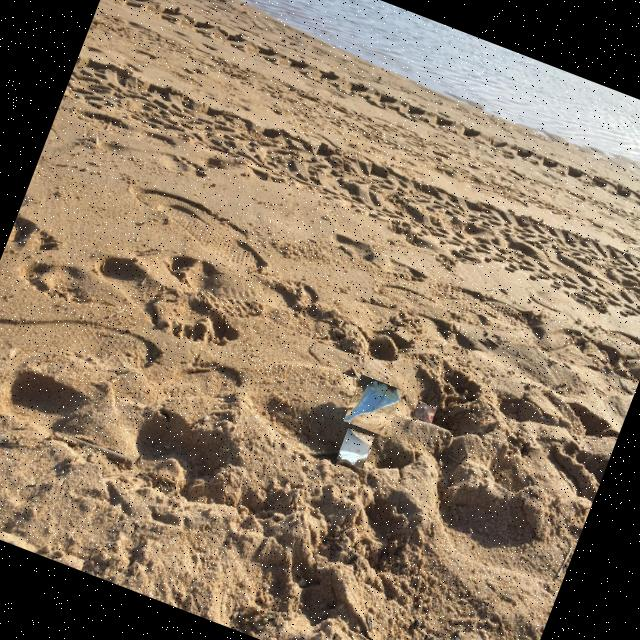Styrofoam piece: (344, 381, 400, 423), (341, 429, 370, 466)
Unlabeled litter: (417, 405, 433, 423)
